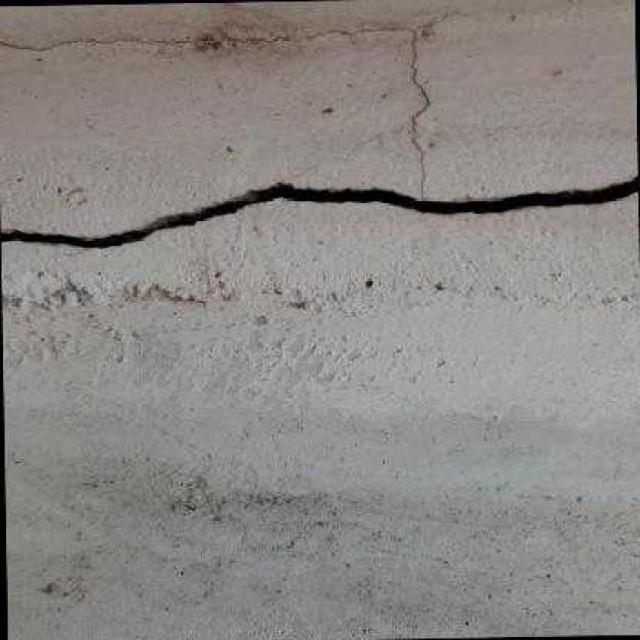D00: (0, 27, 427, 198), (0, 174, 638, 249)
